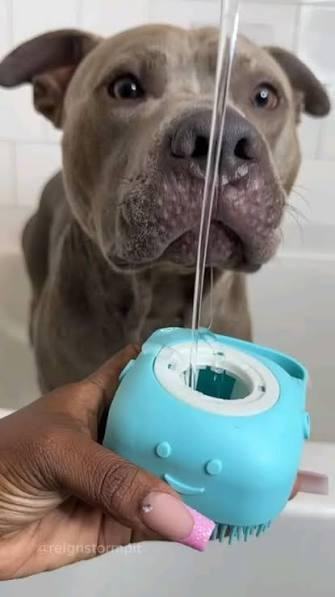adult_dog: (0, 24, 330, 394)
